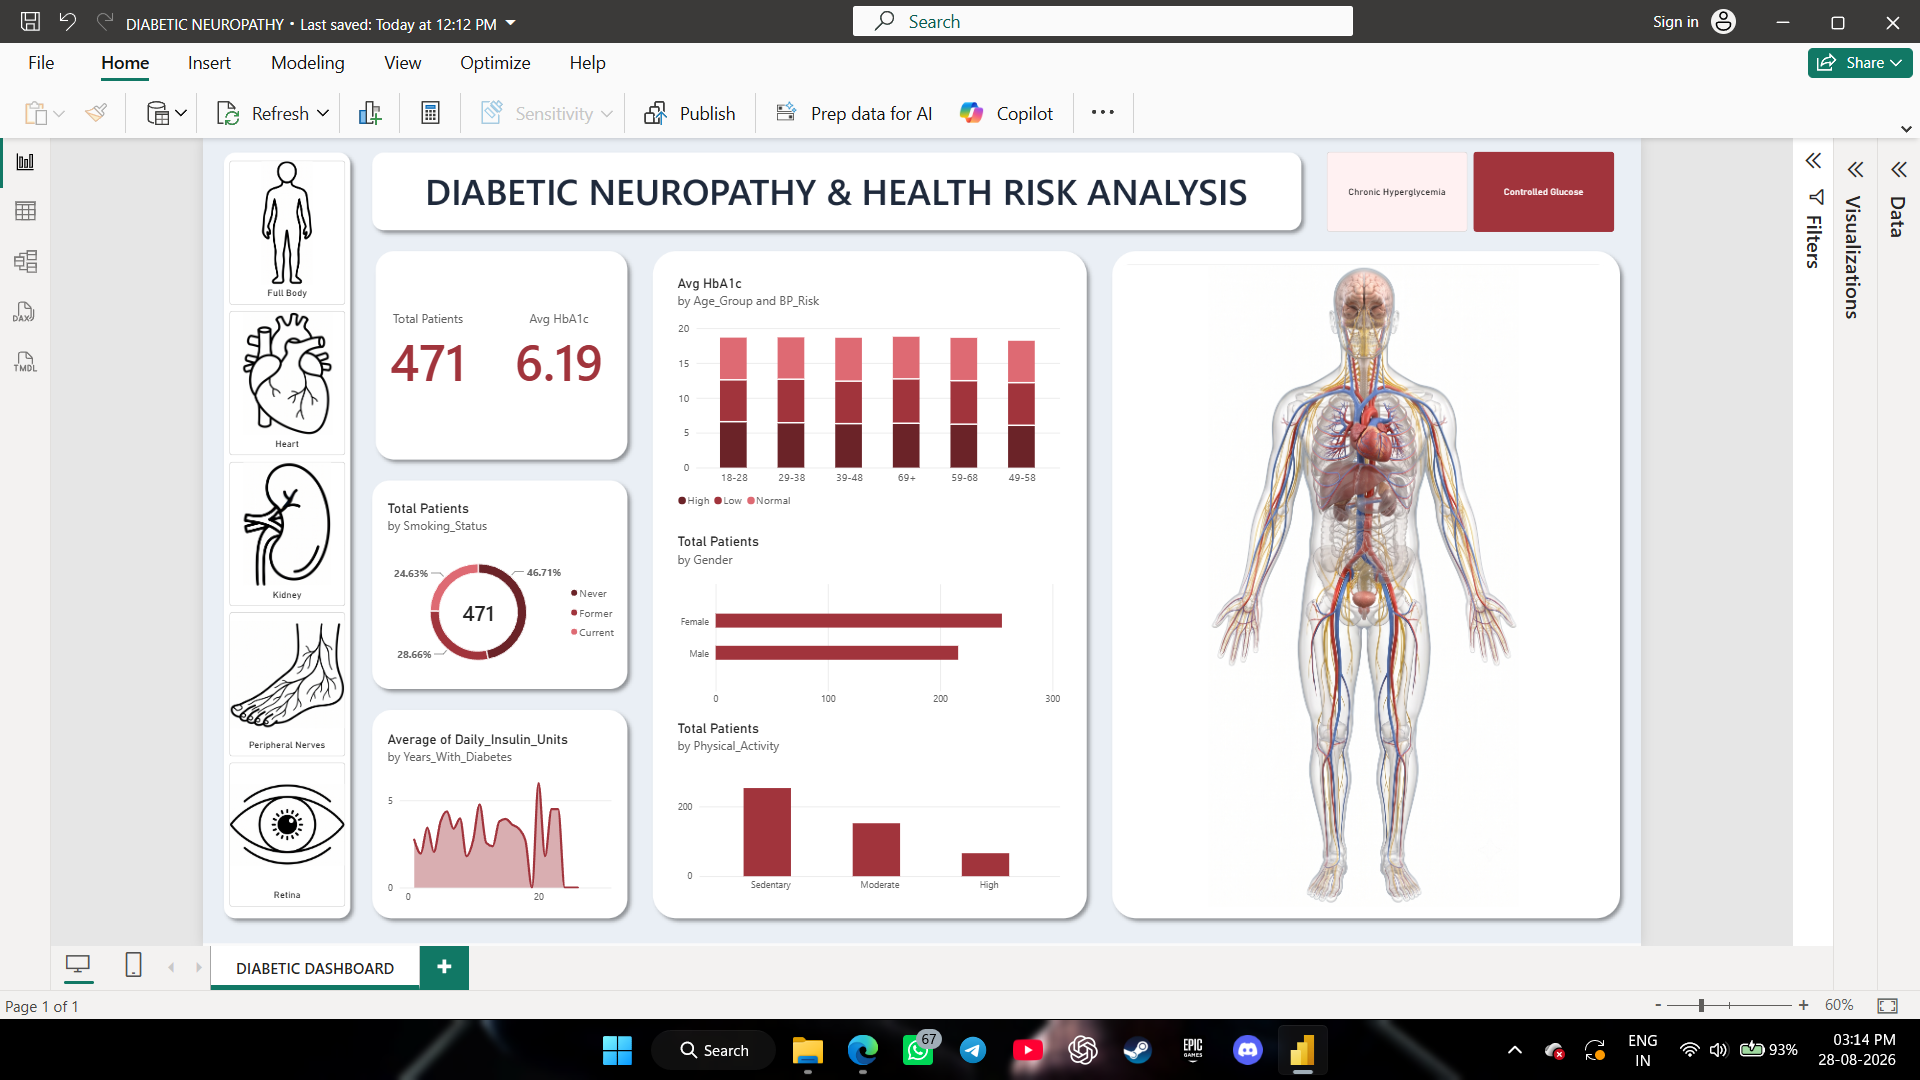

Layout of this report page (visuals, bound fields, positions):
{"tool":"powerbi","page":{"name":"DIABETIC DASHBOARD","canvas":[1920,1080],"ordinal":0},"visuals":[{"type":"advancedSlicerVisual","fields":{"Values":["Dim_Organs.Organ_Name"]},"box":[34.4,30.8,155.6,997.1],"z":0},{"type":"cardVisual","fields":{"Data":["Dim_Organs.Total Patients","Dim_Organs.Avg HbA1c"]},"box":[217.2,143,343.8,285.9],"z":1000},{"type":"donutChart","fields":{"Category":["Fact_DiabeticPatients.Smoking_Status"],"Y":["Dim_Organs.Total Patients"]},"box":[229.8,468.7,343.8,269.6],"z":2000},{"type":"areaChart","fields":{"Category":["Fact_DiabeticPatients.Years_With_Diabetes"],"Y":["Avg(Fact_DiabeticPatients.Daily_Insulin_Units)"]},"box":[229.8,778.2,331.2,264.2],"z":3000},{"type":"columnChart","fields":{"Category":["Fact_DiabeticPatients.Age_Group"],"Y":["Dim_Organs.Avg HbA1c"],"Series":["Fact_DiabeticPatients.BP_Risk"]},"box":[617.1,168.3,542.9,345.6],"z":4000},{"type":"clusteredBarChart","fields":{"Category":["Fact_DiabeticPatients.Gender"],"Y":["Dim_Organs.Total Patients"]},"box":[617.1,513.9,542.9,264.2],"z":5000},{"type":"clusteredColumnChart","fields":{"Category":["Fact_DiabeticPatients.Physical_Activity"],"Y":["Dim_Organs.Total Patients"]},"box":[617.1,763.7,543,264],"z":6000},{"type":"advancedSlicerVisual","fields":{"Values":["Fact_DiabeticPatients.Condition_State"]},"box":[1501.9,18.5,385.2,107.4],"z":7000},{"type":"cardVisual","fields":{"Data":["Dim_Organs.Selected_Organ_Display"]},"box":[1229.6,168.5,642.6,859.3],"z":8000}]}

Visuals, with their boxes on the page's 1920x1080 design canvas (x1, y1, x2, y2). These are canvas units, not pixel positions in the 1920x1080 screenshot, which may show the page scaled, cropped or inside an application window:
advancedSlicerVisual - Dim_Organs.Organ_Name: [left=34, top=31, right=190, bottom=1028]
cardVisual - Dim_Organs.Total Patients x Dim_Organs.Avg HbA1c: [left=217, top=143, right=561, bottom=429]
donutChart - Fact_DiabeticPatients.Smoking_Status x Dim_Organs.Total Patients: [left=230, top=469, right=574, bottom=738]
areaChart - Fact_DiabeticPatients.Years_With_Diabetes x Avg(Fact_DiabeticPatients.Daily_Insulin_Units): [left=230, top=778, right=561, bottom=1042]
columnChart - Fact_DiabeticPatients.Age_Group x Dim_Organs.Avg HbA1c: [left=617, top=168, right=1160, bottom=514]
clusteredBarChart - Fact_DiabeticPatients.Gender x Dim_Organs.Total Patients: [left=617, top=514, right=1160, bottom=778]
clusteredColumnChart - Fact_DiabeticPatients.Physical_Activity x Dim_Organs.Total Patients: [left=617, top=764, right=1160, bottom=1028]
advancedSlicerVisual - Fact_DiabeticPatients.Condition_State: [left=1502, top=18, right=1887, bottom=126]
cardVisual - Dim_Organs.Selected_Organ_Display: [left=1230, top=168, right=1872, bottom=1028]
